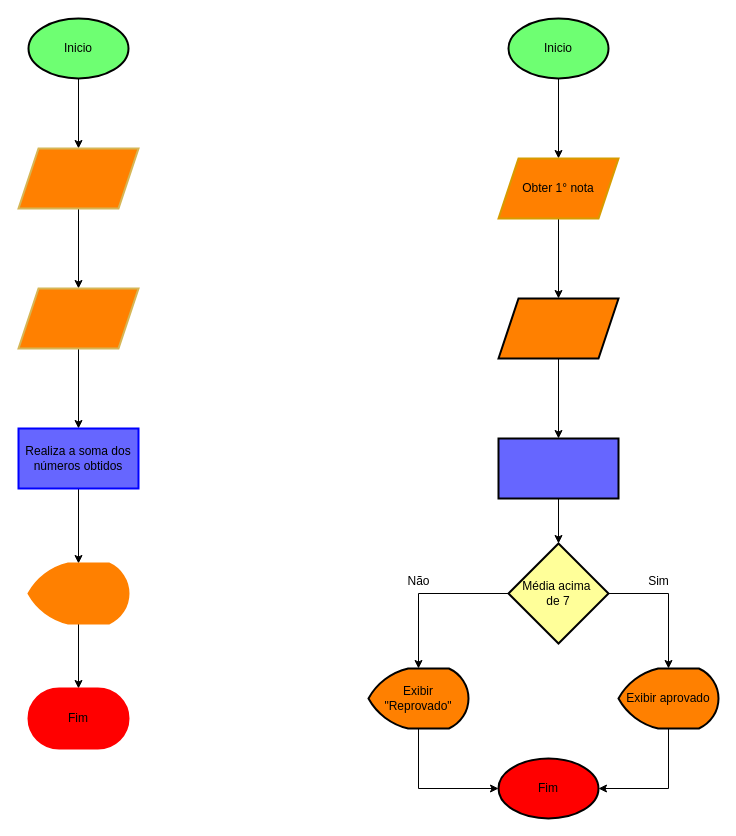
The diagram is 736 pixels wide and 836 high, and some of its shapes have lost their labels. Each missing label, with the centre of its shape:
Exibe o resultado da soma: the point at 78,593
Obter 2° nota: the point at 558,328
Realiza o calculo da nota: the point at 558,468
Recebe o 1° numero: the point at 78,178
Recebe o 2° numero: the point at 78,318
